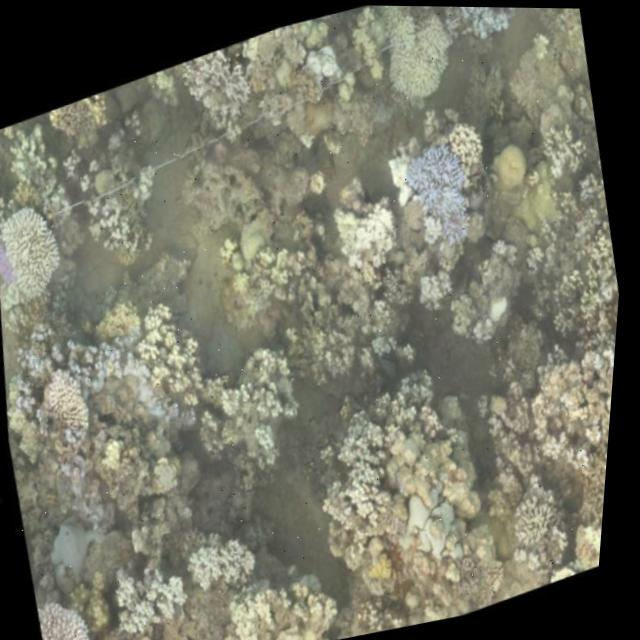Bleached Coral: (0, 303, 158, 462), (371, 98, 512, 258), (299, 392, 420, 559), (351, 4, 467, 117), (115, 295, 217, 423), (0, 176, 81, 322), (316, 175, 415, 286), (160, 35, 259, 141), (108, 539, 211, 640), (177, 506, 283, 598), (392, 468, 486, 565), (31, 572, 126, 640), (196, 586, 300, 640), (404, 255, 469, 323), (441, 5, 531, 42), (583, 117, 614, 201)
